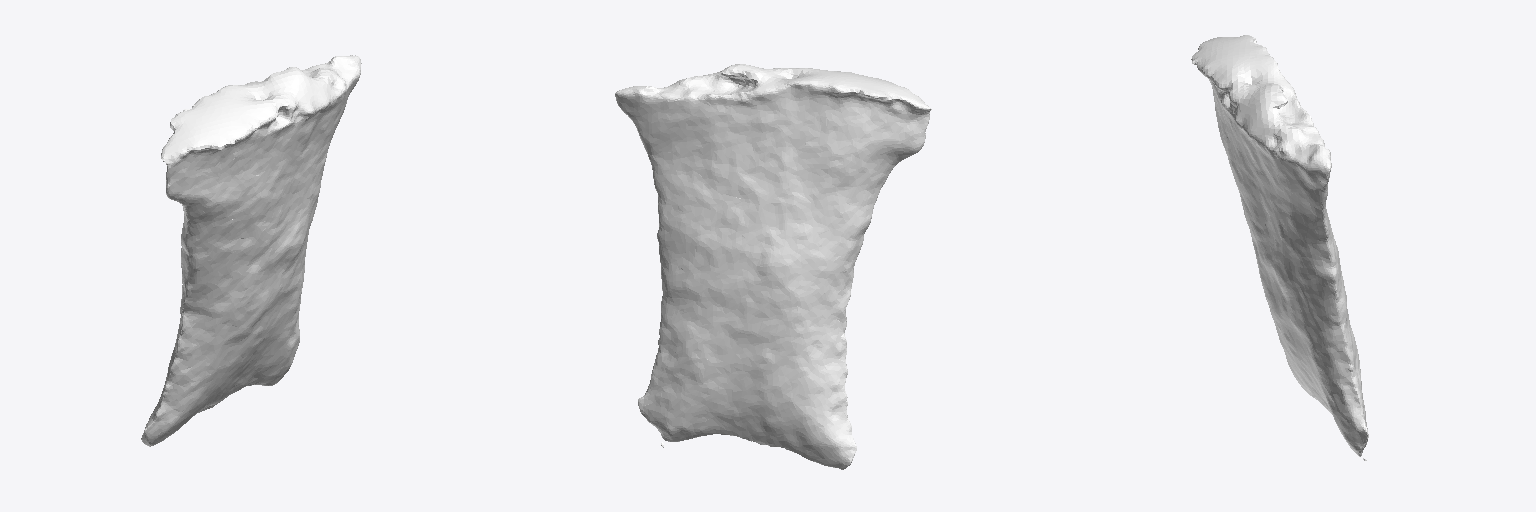
File: try3.obj
The picture shows the model from 3 angles: view 1: azimuth 30°, elevation 25°; view 2: azimuth 150°, elevation 25°; view 3: azimuth 270°, elevation 25°; orthographic projection.
Size of the model in its own units: 0.5718 by 0.7659 by 0.3409.